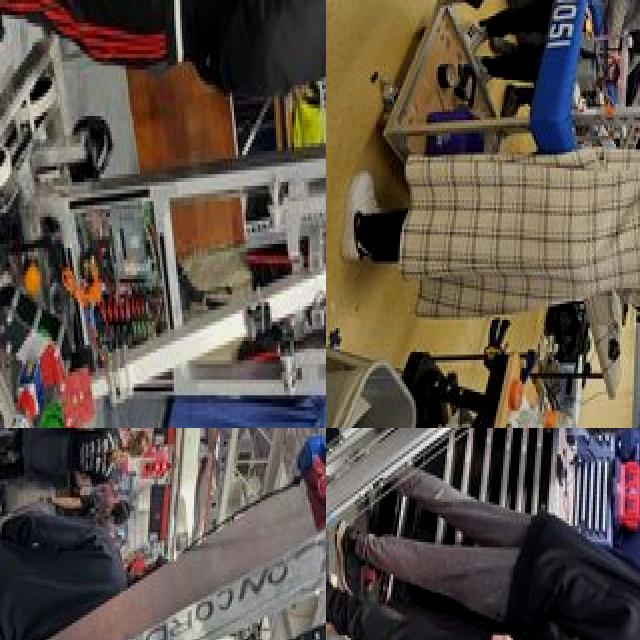FRC-Robots: (0, 17, 326, 428), (0, 428, 326, 640), (326, 428, 568, 625), (513, 0, 640, 158)
